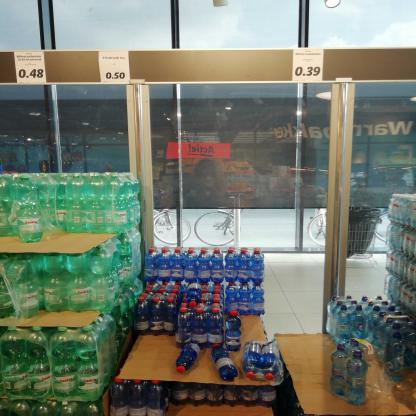prtg: (15, 53, 48, 84), (100, 52, 132, 83), (293, 51, 325, 82)
